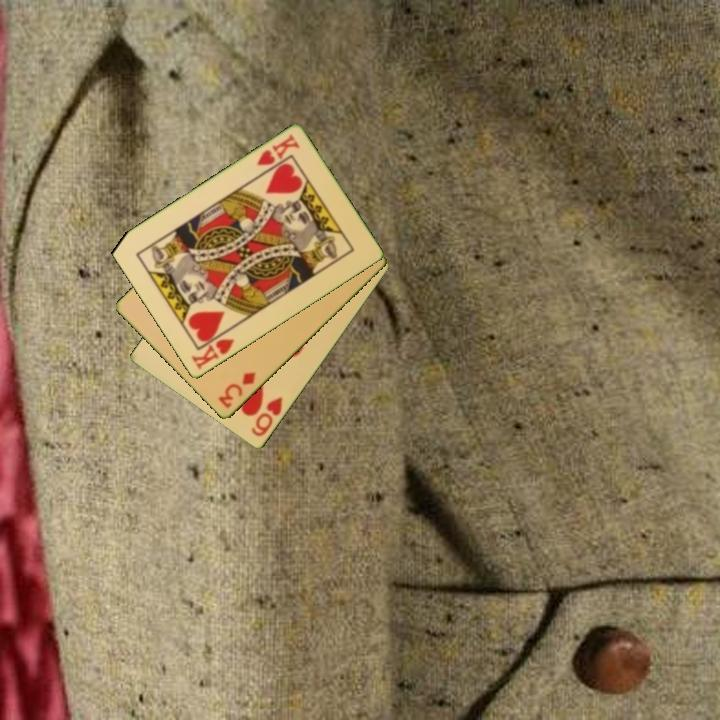3d: (214, 368, 259, 412)
6h: (248, 394, 286, 440)
Kh: (187, 326, 238, 372), (253, 131, 303, 169)
